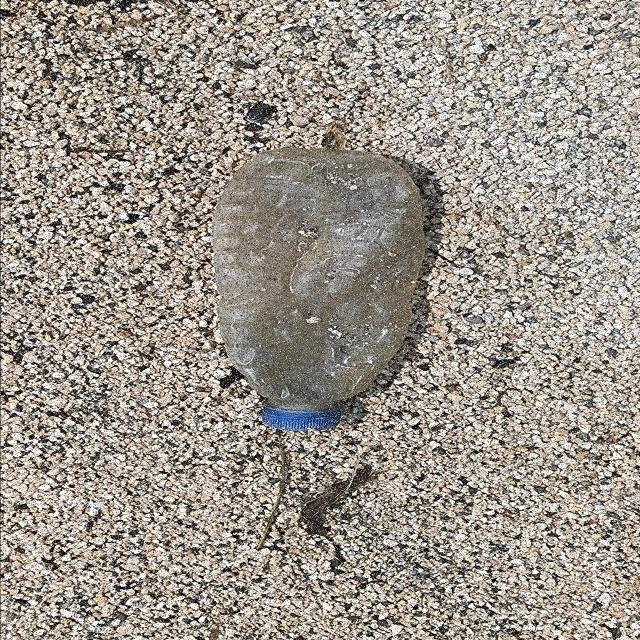plastic_waste: (207, 146, 430, 434)
